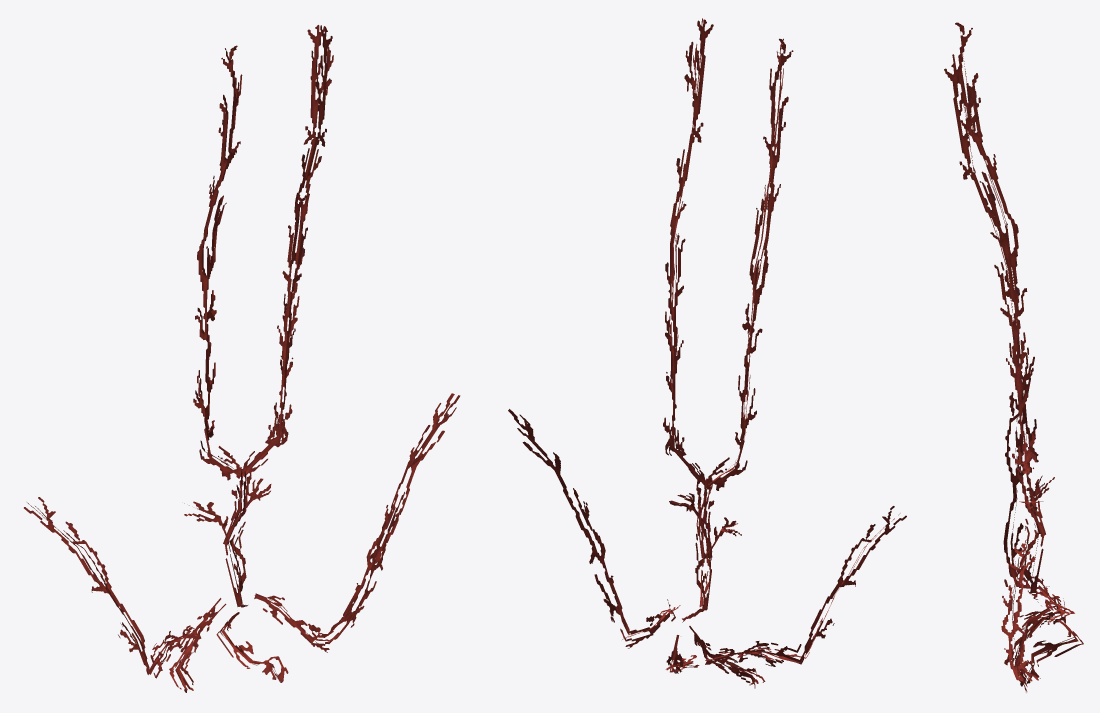
File: venas.obj
3 renders of one model, left to right at view 1: azimuth 30°, elevation 25°; view 2: azimuth 150°, elevation 25°; view 3: azimuth 270°, elevation 25°, orthographic. The views are drawn at different scales.
Parts seen in each view (by area): view 1: MinosPrime_Veins_001_0; view 2: MinosPrime_Veins_001_0; view 3: MinosPrime_Veins_001_0.
Part boxes in pixels (<box>): MinosPrime_Veins_001_0: <box>24,25,460,692</box>; MinosPrime_Veins_001_0: <box>508,18,906,688</box>; MinosPrime_Veins_001_0: <box>944,22,1083,692</box>.
Size of the model in its own units: 0.6189 by 0.9083 by 0.1829.
Materials: 1 (1 with a texture image).
